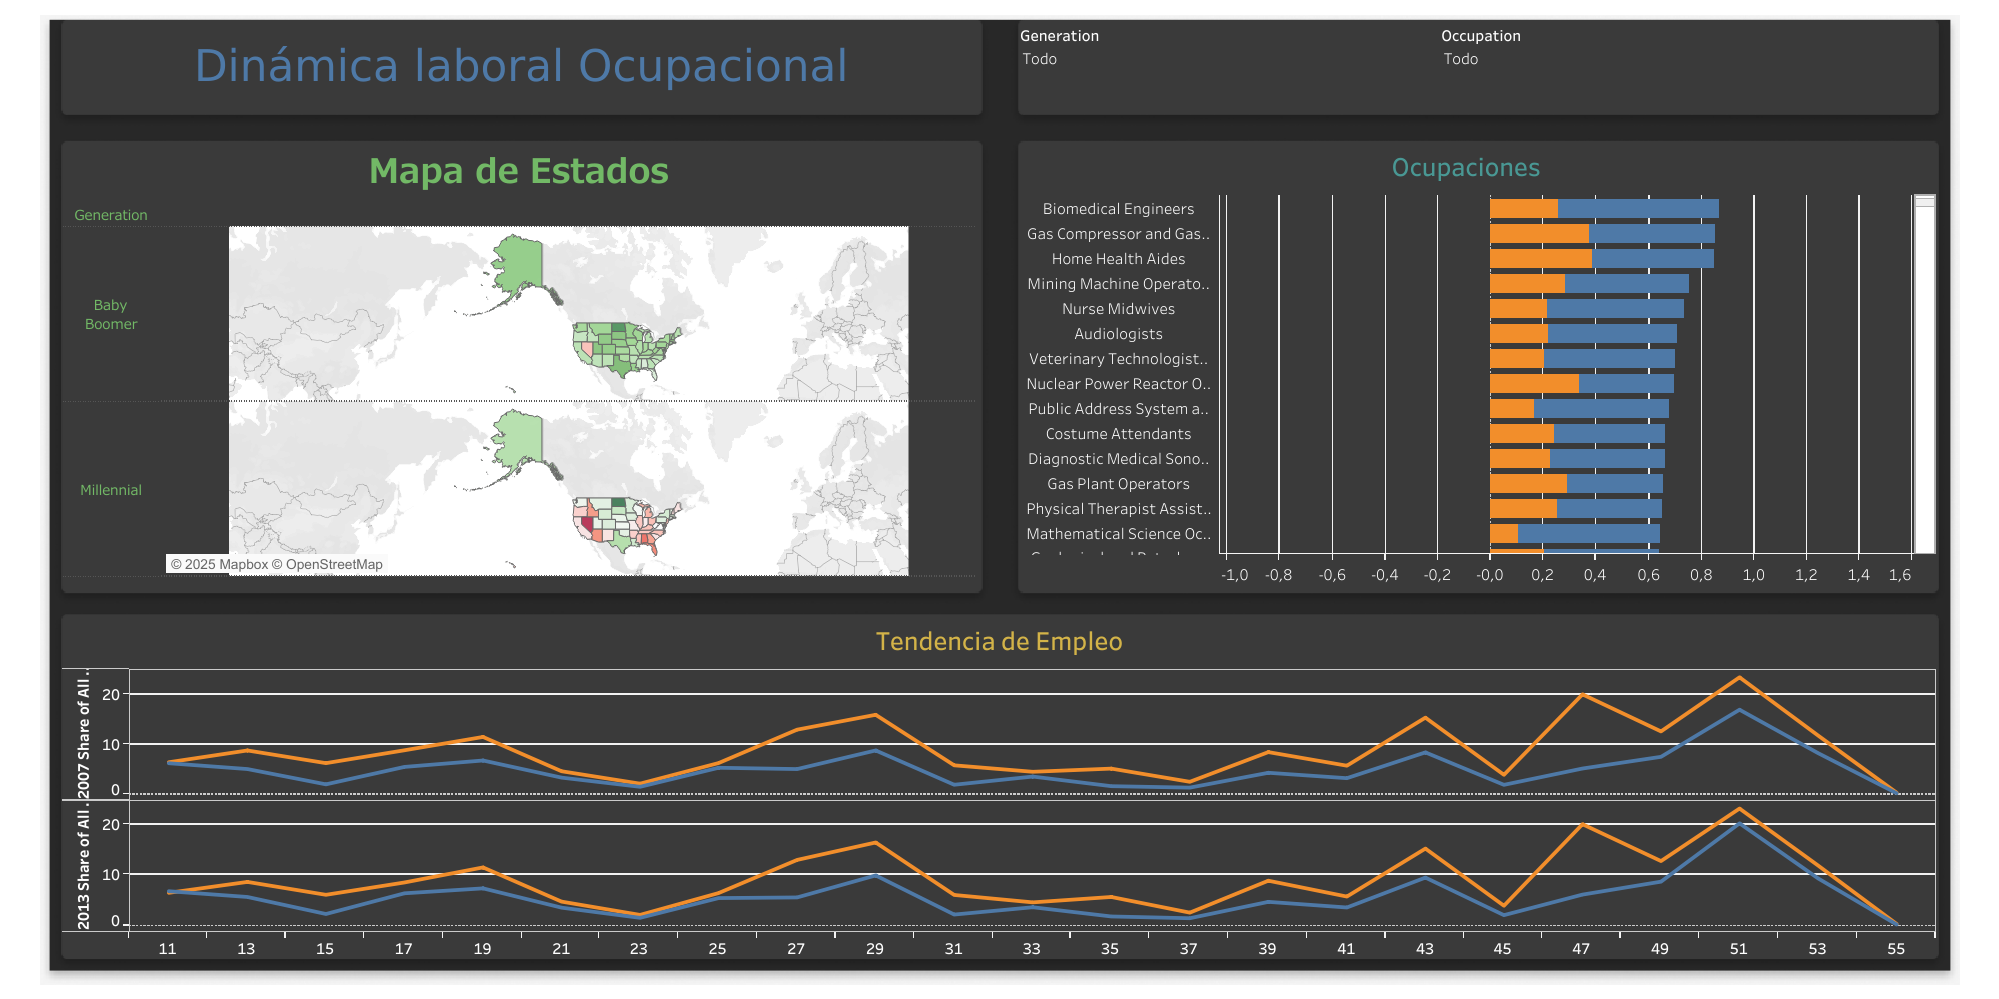

What the dashboard file says about the page in this screenshot:
{"tool":"tableau","page":{"name":"Dashboard 1","canvas":[1600,800],"ordinal":0},"visuals":[{"type":"image","param":"C:/Users/emman/Downloads/Dashboard Dark.png","box":[8,8,1584,784]},{"type":"text","box":[51,16,732,74]},{"type":"filter","title":"Ocupaciones","param":"[federated.10eym01135fp7s1dug0xs1v01x56].[none:Generation:nk]","box":[816,18,320,74]},{"type":"worksheet","title":"Mapa de Estados","mark":"Automatic","rows":["Generation"],"box":[49,111,735,363]},{"type":"worksheet","title":"Ocupaciones","mark":"Automatic","rows":["Occupation"],"cols":["% Job Change"],"box":[815,113,734,360]},{"type":"worksheet","title":"Tendencia de Empleo","mark":"Line","rows":["2007 Share of All Jobs","2013 Share of All Jobs"],"cols":["First 2 of SOC"],"box":[50,492,1499,276]}]}

Visuals, with their boxes in screenshot pixels (x1, y1, x2, y2), scaled from the page's 1600x800 canvas onto the 1999x999 screenshot:
image: <box>10,10,1989,989</box>
text: <box>64,20,978,112</box>
"Ocupaciones" filter: <box>1019,22,1419,115</box>
"Mapa de Estados" worksheet: <box>61,139,980,592</box>
"Ocupaciones" worksheet: <box>1018,141,1935,591</box>
"Tendencia de Empleo" worksheet (Line marks): <box>62,614,1935,959</box>
